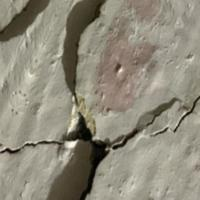crack: (2, 1, 192, 188)
